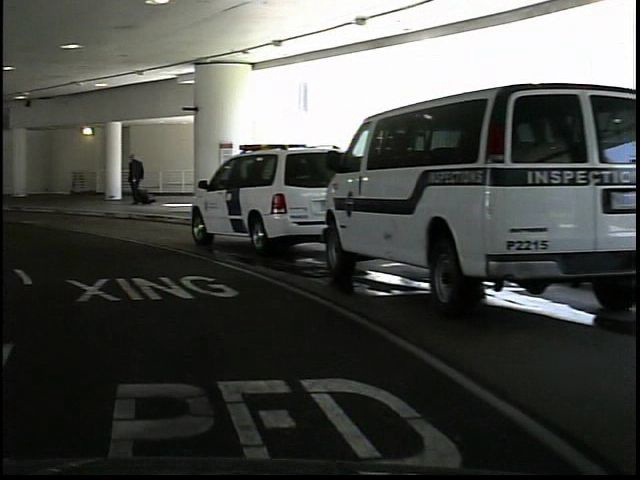person: (122, 149, 147, 209)
